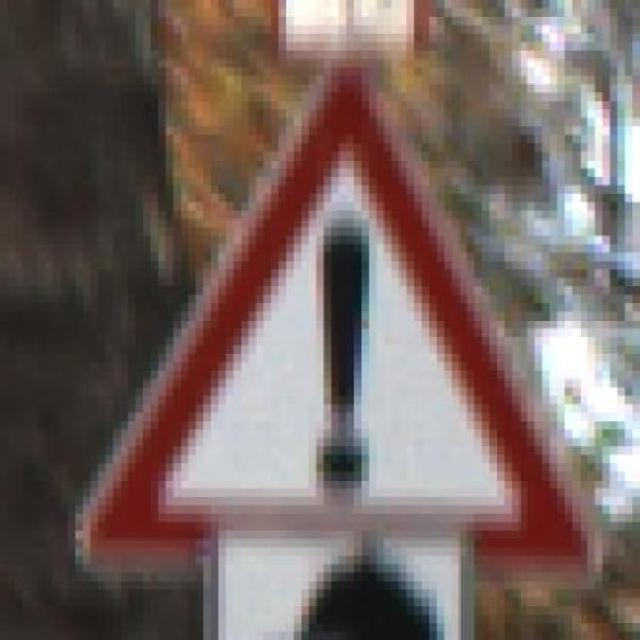Attention Please-: (52, 67, 603, 590)
